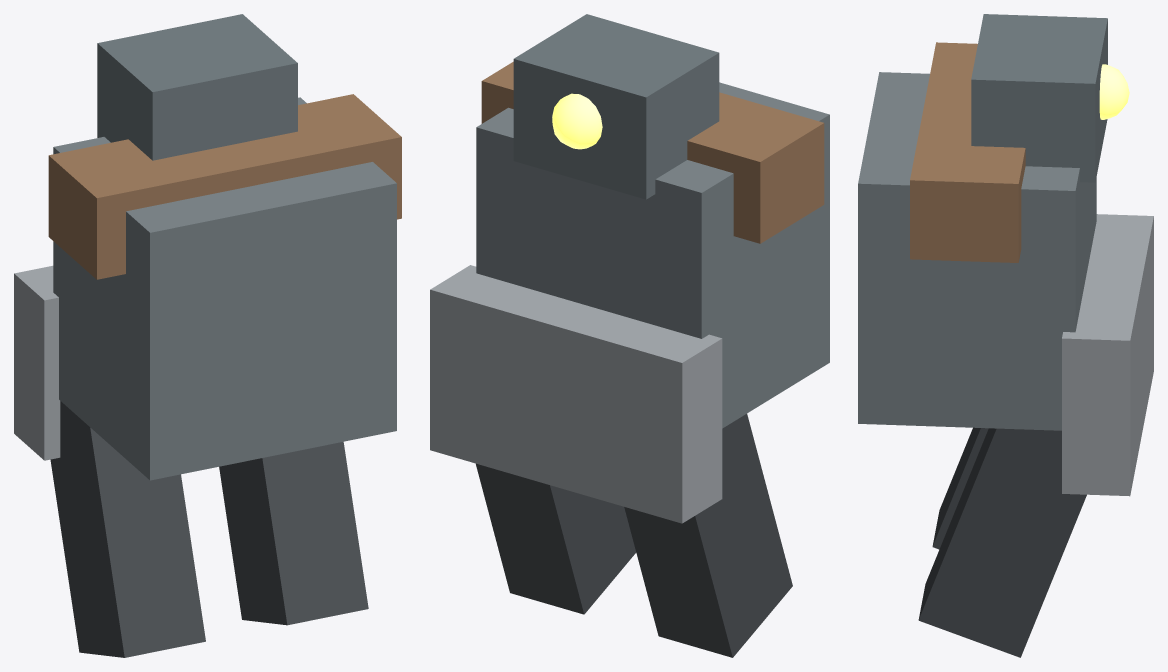
Rendered from mob_tank.glb.
3 renders of one model, left to right at view 1: azimuth 30°, elevation 25°; view 2: azimuth 150°, elevation 25°; view 3: azimuth 270°, elevation 25°, orthographic. The views are drawn at different scales.
Visible parts, largest first — view 1: Torso, LegL, Shoulder, Head, LegR, Plow; view 2: Torso, Plow, Head, LegL, LegR, Shoulder, Optic; view 3: Torso, LegR, Plow, Head, Shoulder, LegL, Optic.
Boxes of the visible parts, x1=… form: Torso: x1=53, y1=97, x2=396, y2=480; LegL: x1=50, y1=401, x2=205, y2=657; Shoulder: x1=48, y1=94, x2=401, y2=279; Head: x1=97, y1=14, x2=297, y2=160; LegR: x1=219, y1=441, x2=368, y2=625; Plow: x1=14, y1=265, x2=60, y2=460; Torso: x1=476, y1=82, x2=829, y2=428; Plow: x1=430, y1=265, x2=722, y2=523; Head: x1=513, y1=14, x2=719, y2=199; LegL: x1=624, y1=414, x2=792, y2=657; LegR: x1=476, y1=463, x2=636, y2=614; Shoulder: x1=481, y1=61, x2=824, y2=243; Optic: x1=552, y1=93, x2=602, y2=149; Torso: x1=858, y1=72, x2=1096, y2=430; LegR: x1=918, y1=428, x2=1086, y2=657; Plow: x1=1062, y1=214, x2=1153, y2=496; Head: x1=971, y1=14, x2=1107, y2=182; Shoulder: x1=910, y1=42, x2=1025, y2=262; LegL: x1=932, y1=427, x2=988, y2=549; Optic: x1=1099, y1=64, x2=1129, y2=119.
Bounding box in the file's own units: 1.07 × 1.96 × 0.9491.
